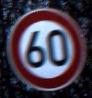Speed Limit -60-: (5, 7, 85, 89)
